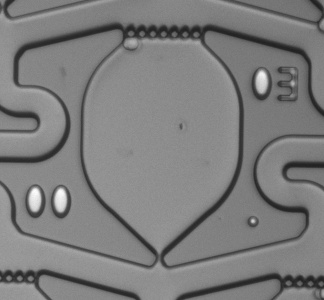AptNum: (246, 61, 306, 109)
Marker: (243, 212, 265, 233)
StNum: (17, 177, 81, 228)
Trap: (130, 257, 186, 300)
